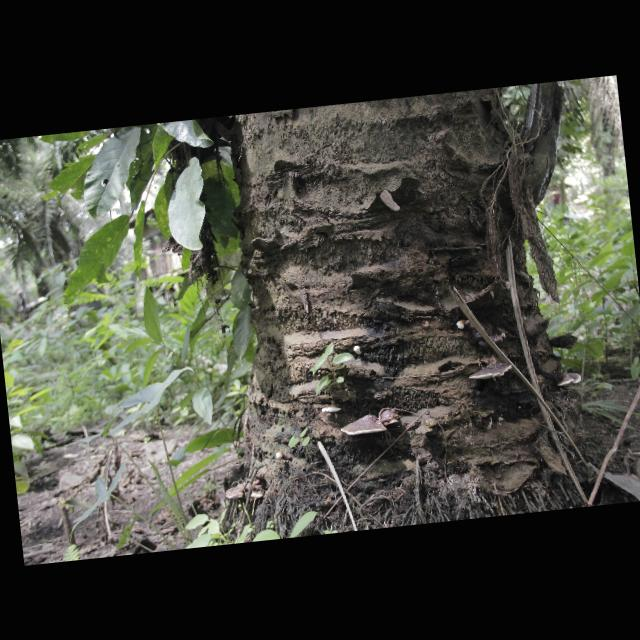ganoderma: (466, 317, 504, 351), (340, 413, 388, 437), (469, 361, 514, 382), (557, 372, 583, 388), (380, 408, 403, 426), (226, 484, 249, 500), (250, 486, 265, 501), (322, 405, 344, 415)
primordium: (275, 452, 285, 462), (355, 346, 365, 356), (457, 321, 466, 331), (506, 281, 512, 291), (502, 334, 507, 340)
